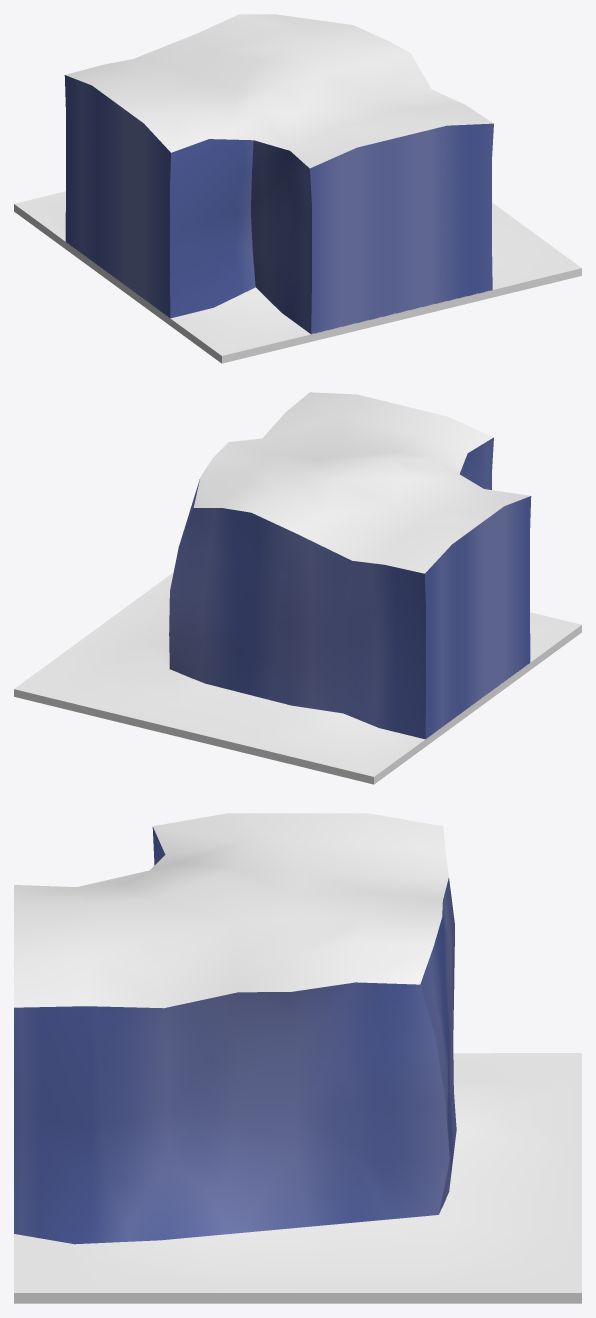
File: wall_slim_join2_1.glb
3 renders of one model, top to bottom at view 1: azimuth 30°, elevation 25°; view 2: azimuth 150°, elevation 25°; view 3: azimuth 270°, elevation 25°, orthographic. The views are drawn at different scales.
Visible parts, largest first — view 1: wall_slim_join2_1.001; view 2: wall_slim_join2_1.001; view 3: wall_slim_join2_1.001.
Part boxes in pixels (x1,y1,x2,y2): wall_slim_join2_1.001: (14, 14, 581, 363); wall_slim_join2_1.001: (14, 392, 581, 784); wall_slim_join2_1.001: (14, 813, 581, 1303).
Size of the model in its own units: 2 by 1.04 by 2.
1 material, 1 textured.
